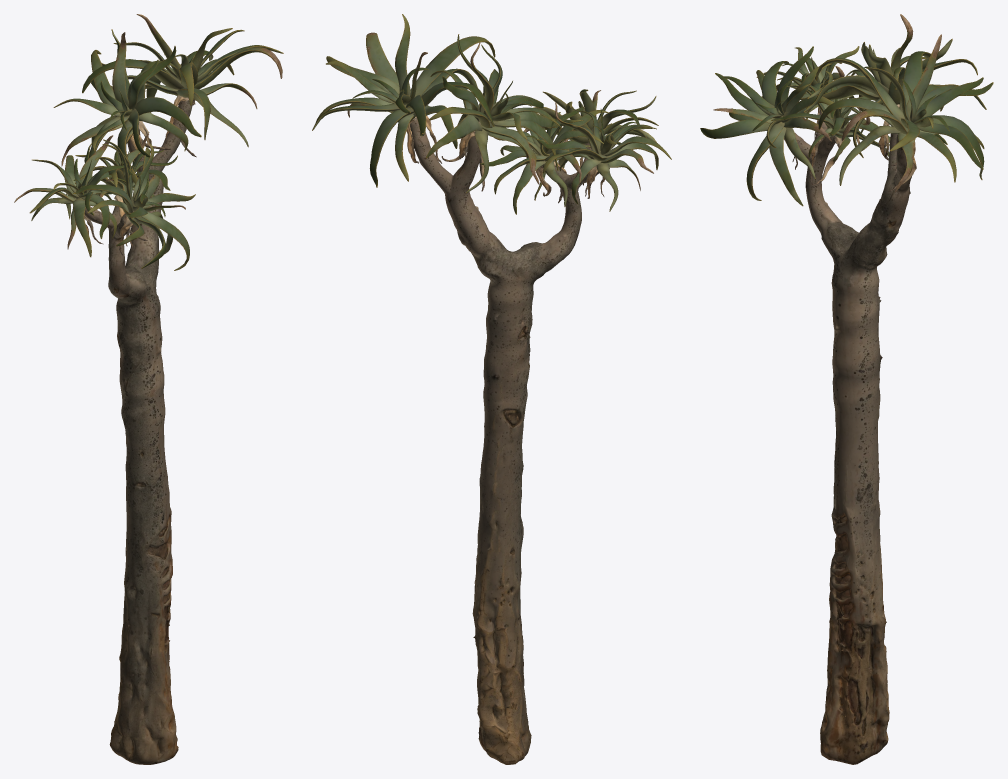
Rendered from quiver_tree_01.glb.
3 renders of one model, left to right at view 1: azimuth 30°, elevation 25°; view 2: azimuth 150°, elevation 25°; view 3: azimuth 270°, elevation 25°, orthographic. The views are drawn at different scales.
Parts seen in each view (by area): view 1: quiver_tree_01; view 2: quiver_tree_01; view 3: quiver_tree_01.
Boxes of the visible parts, <box> form: quiver_tree_01: <box>14,14,283,764</box>; quiver_tree_01: <box>312,14,671,764</box>; quiver_tree_01: <box>700,14,993,764</box>.
Bounding box in the file's own units: 1.18 × 2.72 × 0.9683.
Materials: 2 (2 with a texture image).
